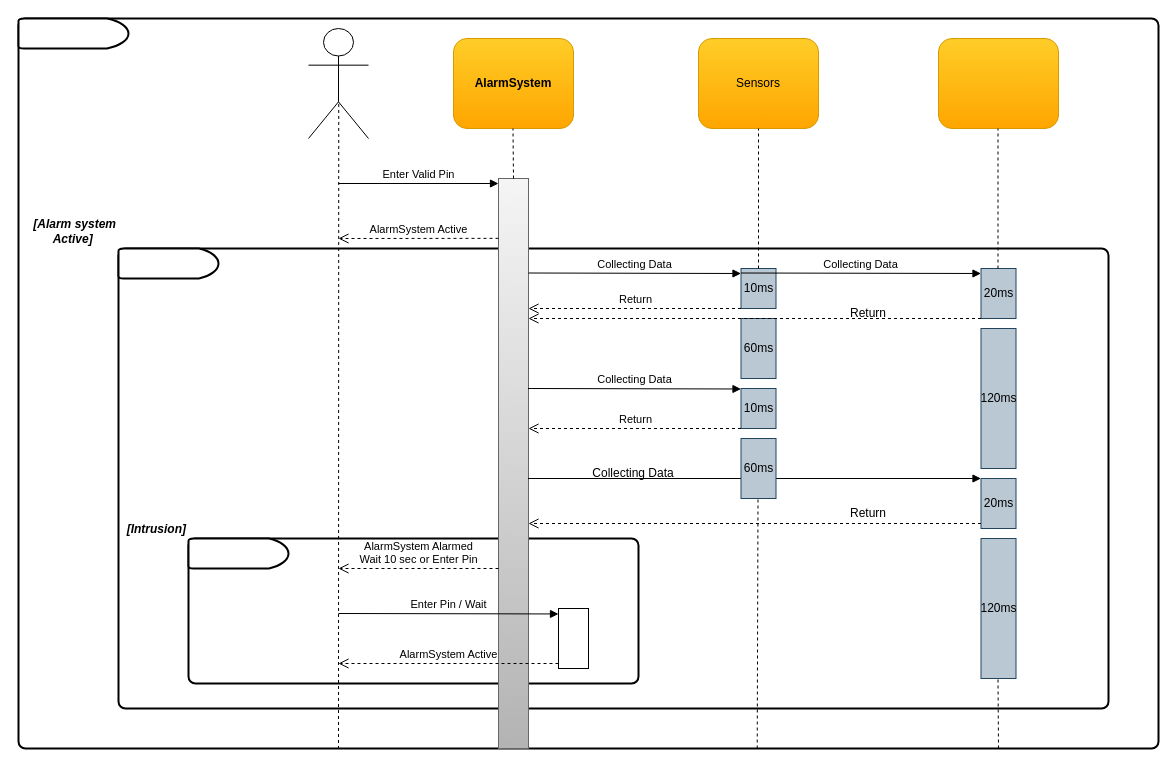
This 1176x767 diagram has some shape labels left out. Each missing label, with the centre of its shape:
"10s" belongs at pixel 573 638.
"Actor" belongs at pixel 338 83.
"Alarm System" belongs at pixel 73 33.
"Alt" belongs at pixel 238 553.
"Camera" belongs at pixel 998 83.
"Loop" belongs at pixel 168 263.
